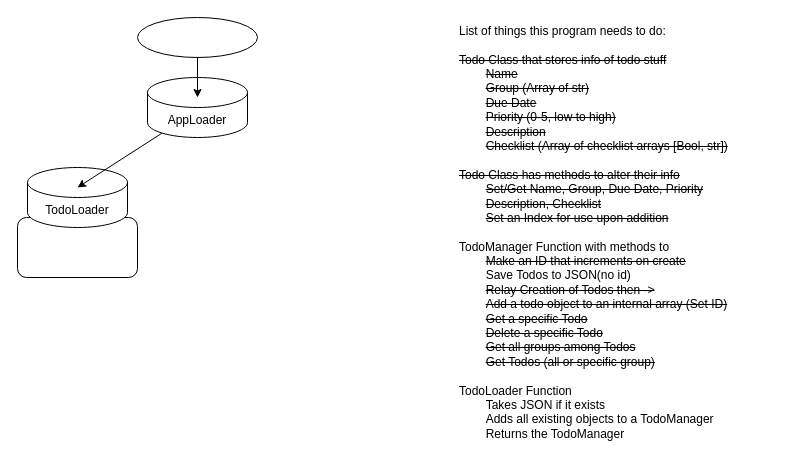
Some shapes in this 805 by 465 pixel diagram are drawn without their labels. Here are the shapes that lost their labels. From the top down, the centre of each, then its label:
pixel 197 37: load page
pixel 77 247: TodoManager
